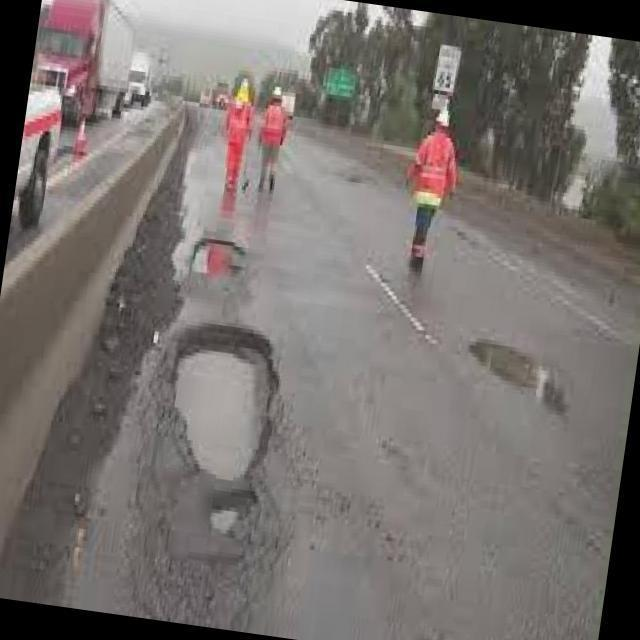Pothole: (173, 325, 277, 538), (471, 342, 551, 401), (194, 239, 245, 287)
